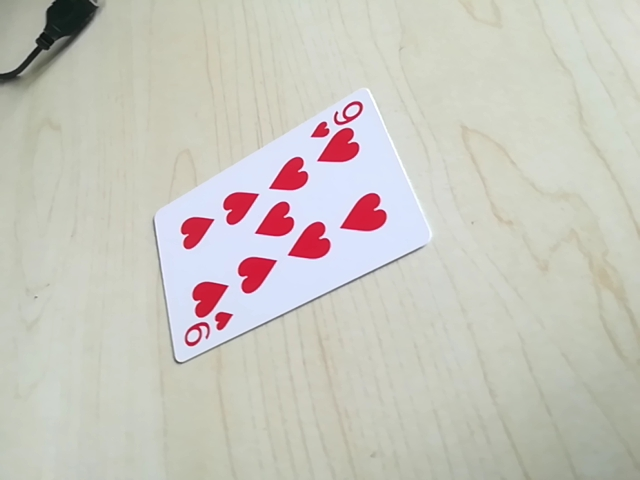hx 9: (308, 95, 370, 139), (179, 315, 234, 354)
